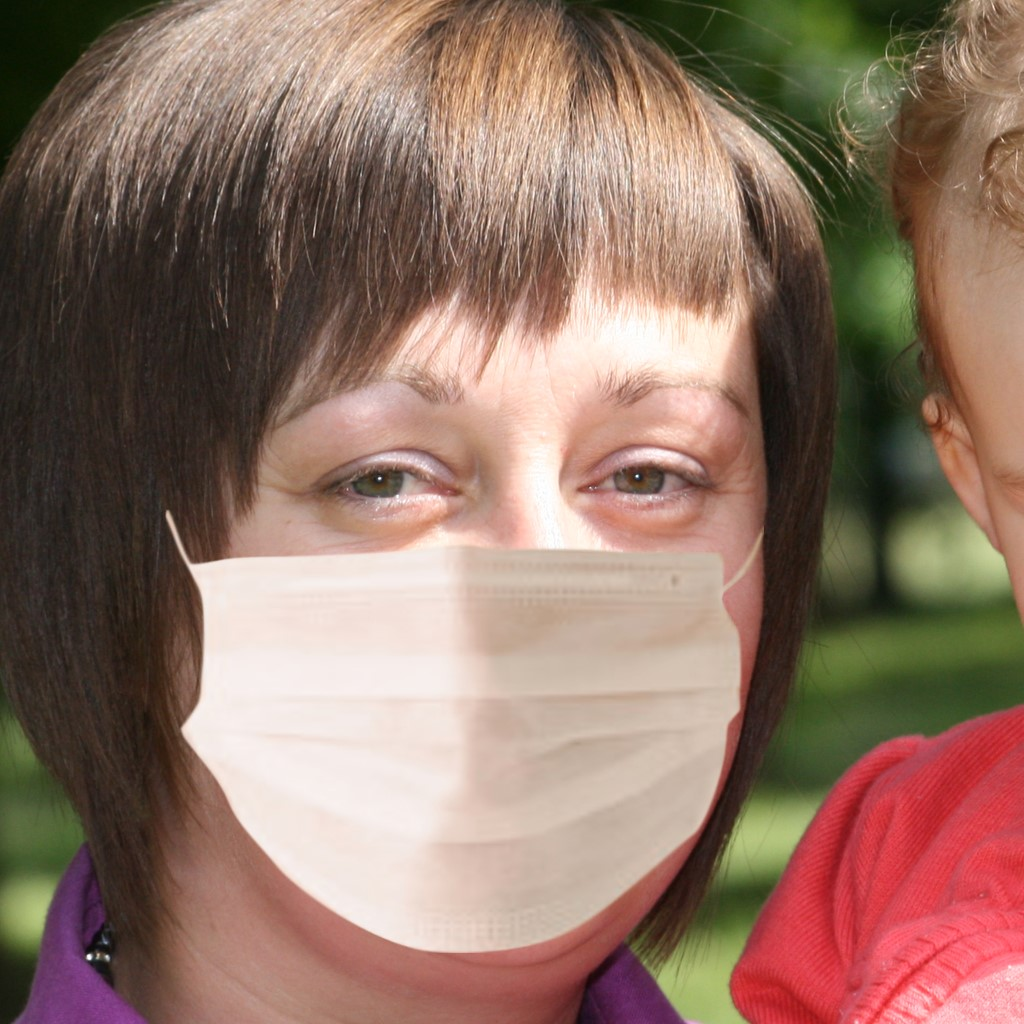con_mascara: (146, 155, 781, 979)
